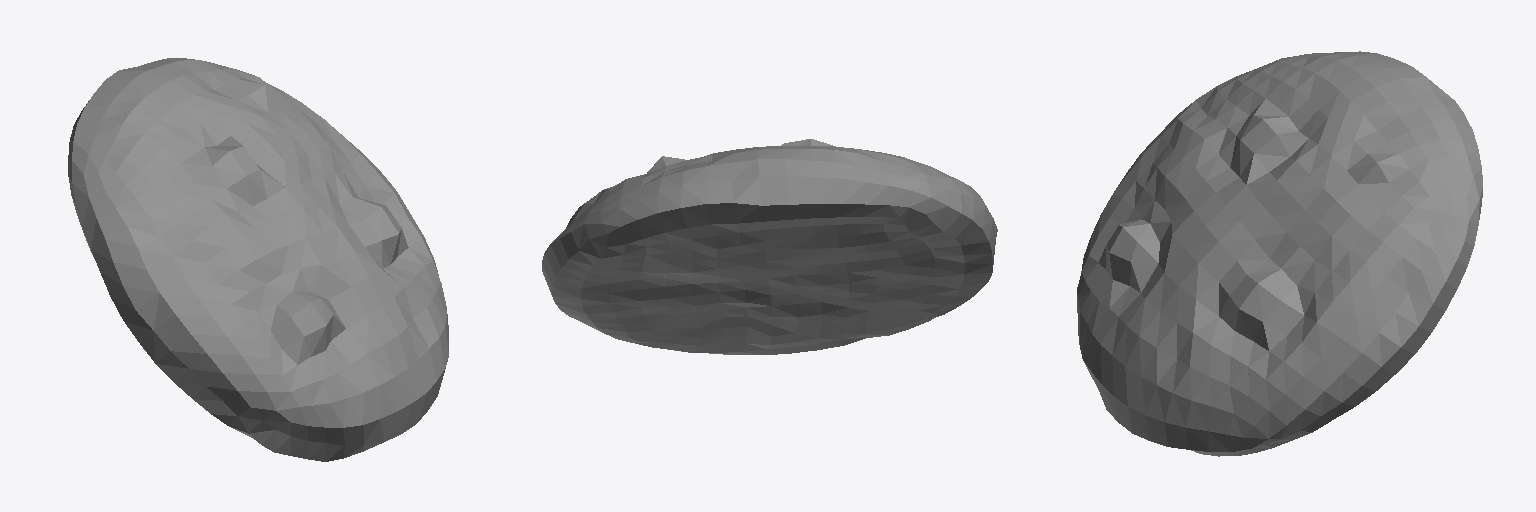
Rendered from Cookie.obj.
The picture shows the model from 3 angles: view 1: azimuth 30°, elevation 25°; view 2: azimuth 150°, elevation 25°; view 3: azimuth 270°, elevation 25°; orthographic projection.
Parts seen in each view (by area): view 1: Cookie; view 2: Cookie; view 3: Cookie.
Boxes of the visible parts, <box> form: Cookie: <box>68,58,448,461</box>; Cookie: <box>542,139,997,354</box>; Cookie: <box>1077,51,1482,456</box>.
Size of the model in its own units: 2.68 by 2.12 by 2.55.